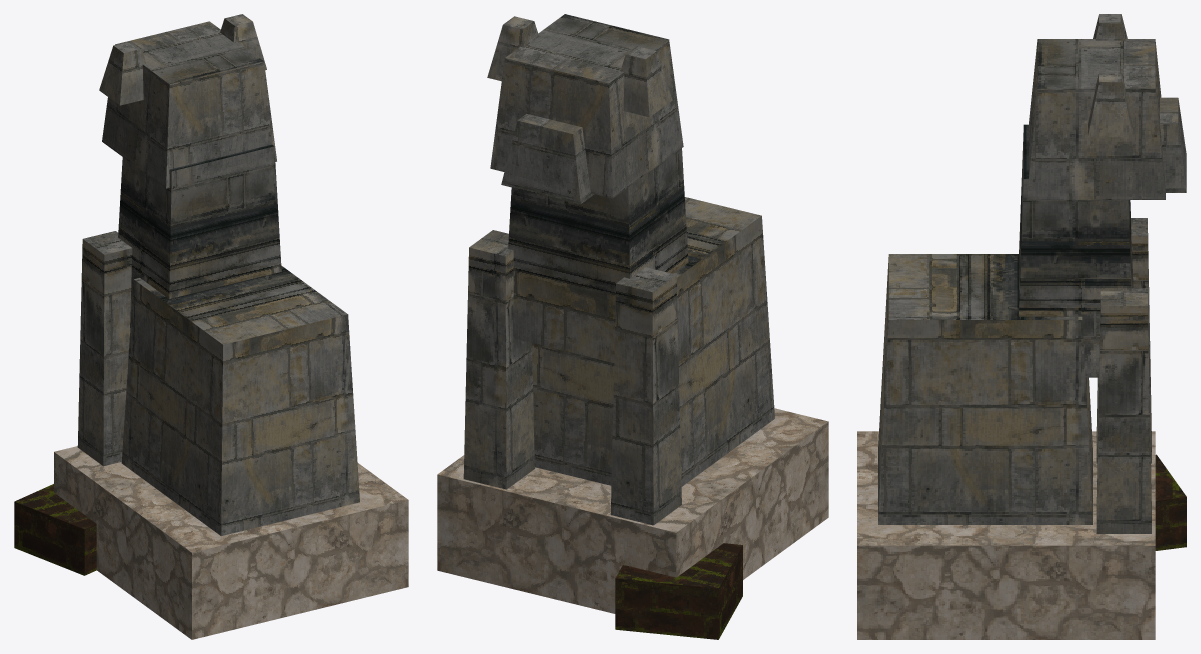
Rendered from temple_statue_singha_02.glb.
The picture shows the model from 3 angles, left to right: view 1: azimuth 30°, elevation 25°; view 2: azimuth 150°, elevation 25°; view 3: azimuth 270°, elevation 25°; orthographic projection. The views are drawn at different scales.
Visible parts, largest first — view 1: temple_statue_singha_02; view 2: temple_statue_singha_02; view 3: temple_statue_singha_02.
Boxes of the visible parts, <box> form: temple_statue_singha_02: <box>14,14,408,639</box>; temple_statue_singha_02: <box>437,14,828,639</box>; temple_statue_singha_02: <box>857,14,1186,639</box>.
Bounding box in the file's own units: 0.9201 × 1.7 × 0.9505.
Materials: 3 (3 with a texture image).
